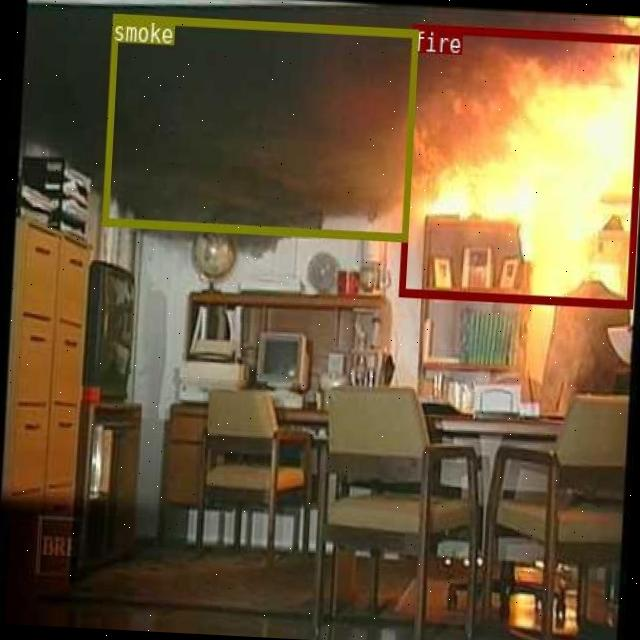fire: (398, 23, 640, 308)
smoke: (100, 13, 418, 240)
